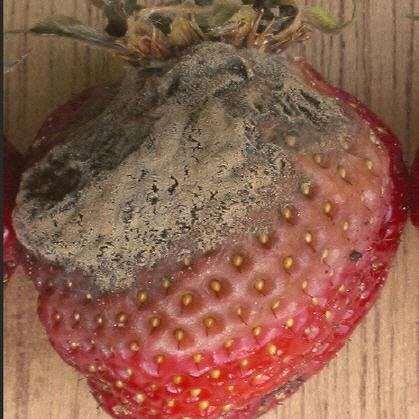Gray Mold: (10, 0, 398, 418)
